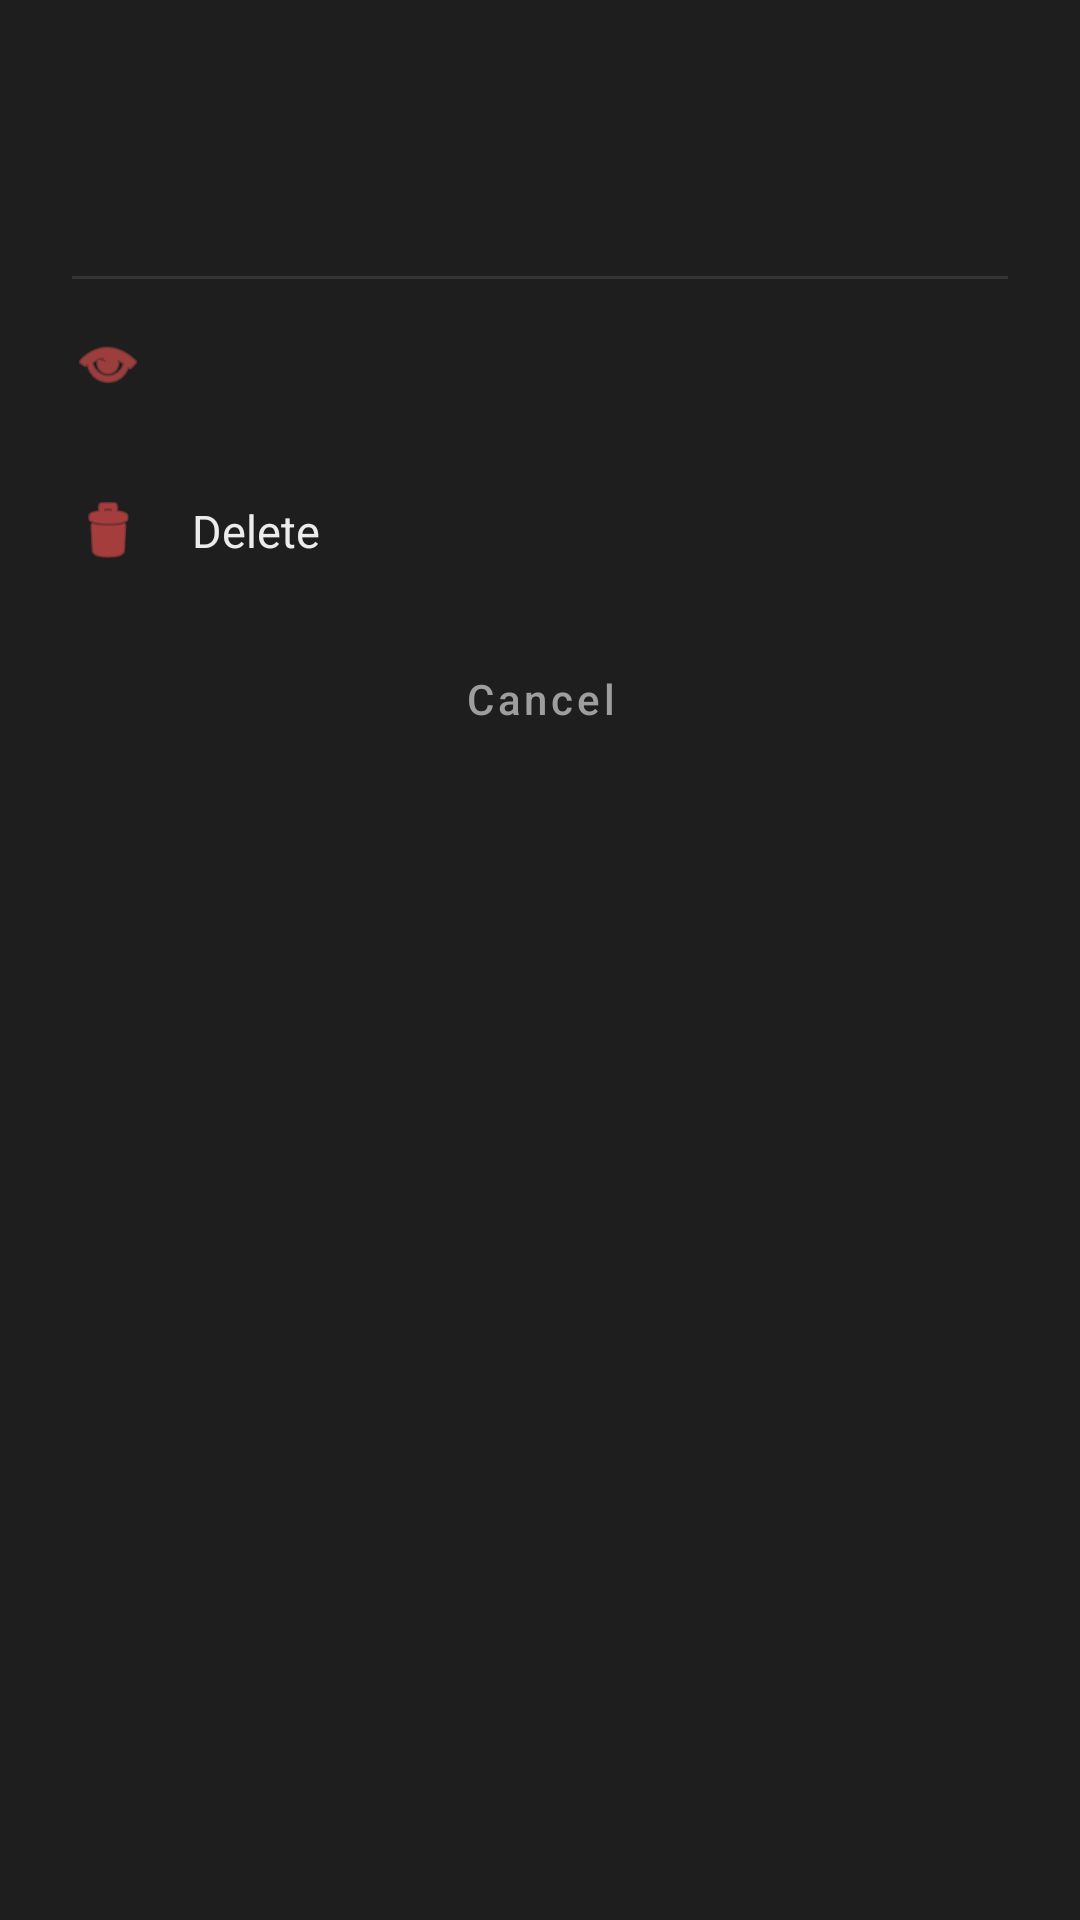

Point at icon controls on the screen. Image size 1080x1920, points as point (x, y).
view: point (108, 364)
